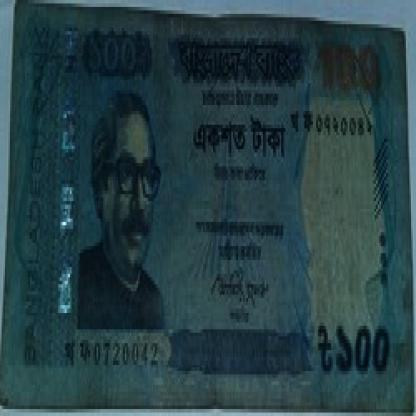one hundred taka: (333, 312, 399, 388), (316, 38, 383, 97), (85, 21, 143, 83)
